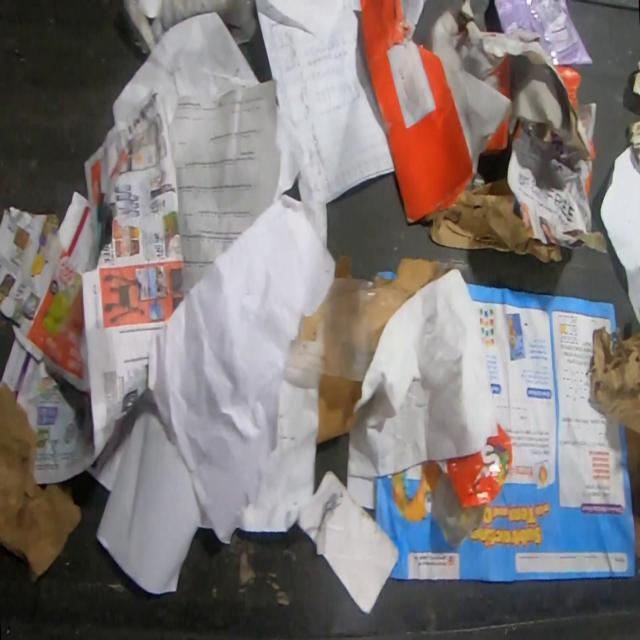cardboard: (357, 0, 598, 226), (295, 467, 401, 616), (316, 373, 361, 447), (373, 256, 445, 295), (298, 300, 323, 342), (335, 253, 353, 278)
soft_plastic: (319, 276, 410, 381), (433, 419, 512, 509), (492, 0, 594, 67), (431, 475, 485, 550)
